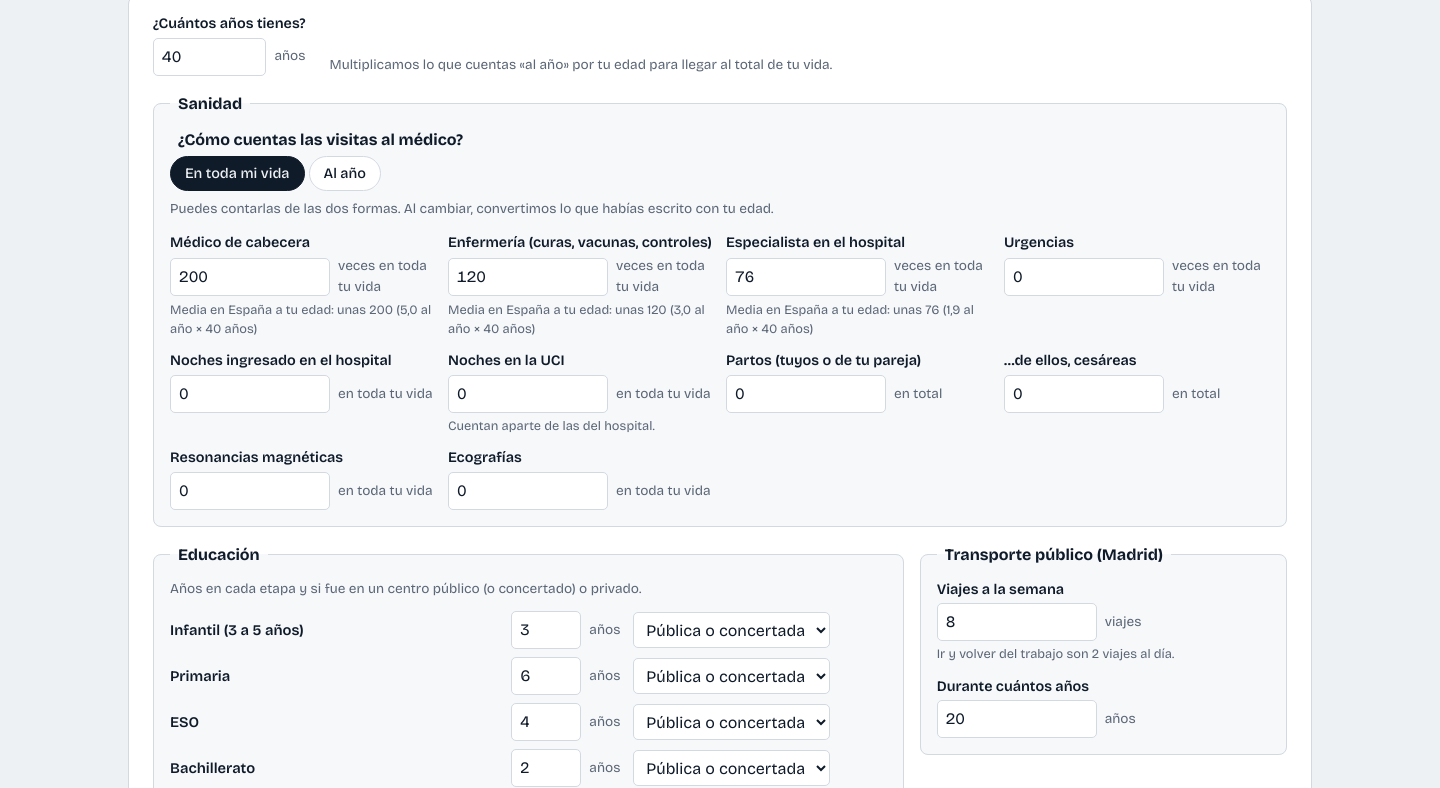
Simulador › servicios: ingresos y partos aparecen en el detalle con su precio
This screenshot has width=1440, height=788.
(page scrolled)
Replace the text in the number field labelled "Noches ingresado en el hospital" with "10": (250, 394) [170,375,330,413]
(page scrolled)
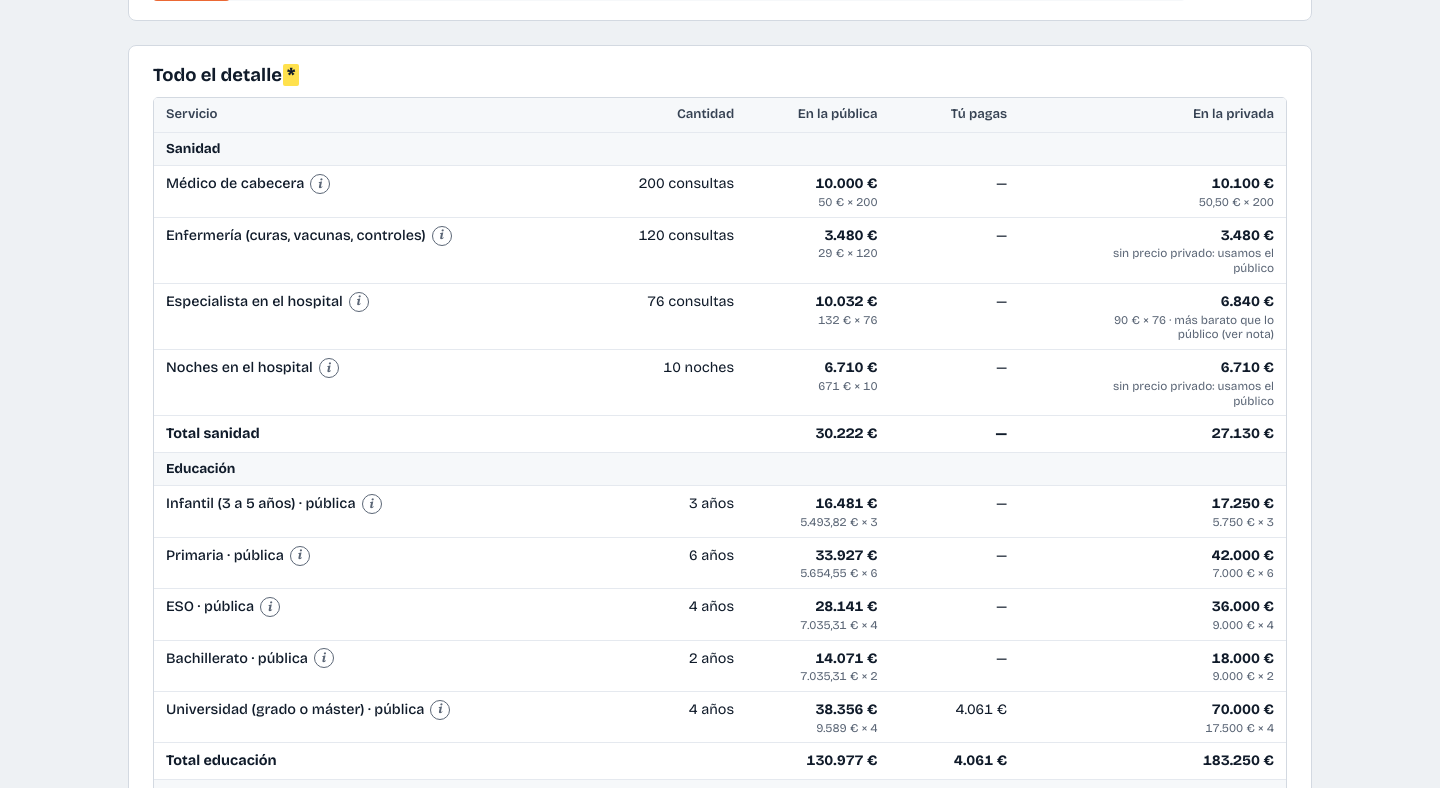
Check: the text "6.710 €" is shown 2 times, box [824,359,878,376]; [1221,359,1274,376]
Check: the text "sin precio privado: usamos el público" in the row of "671 € × 10" is shown, box [1113,379,1274,408]
